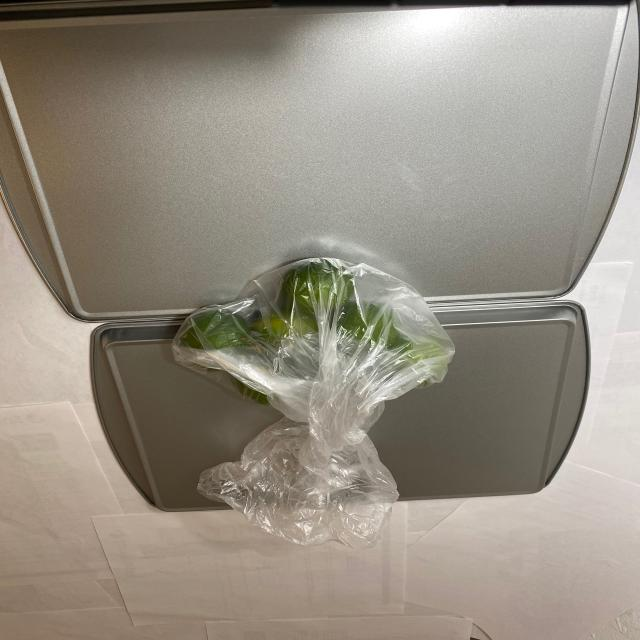lemon: (173, 258, 452, 402)
